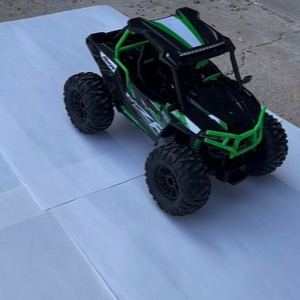polaris: (63, 8, 291, 217)
